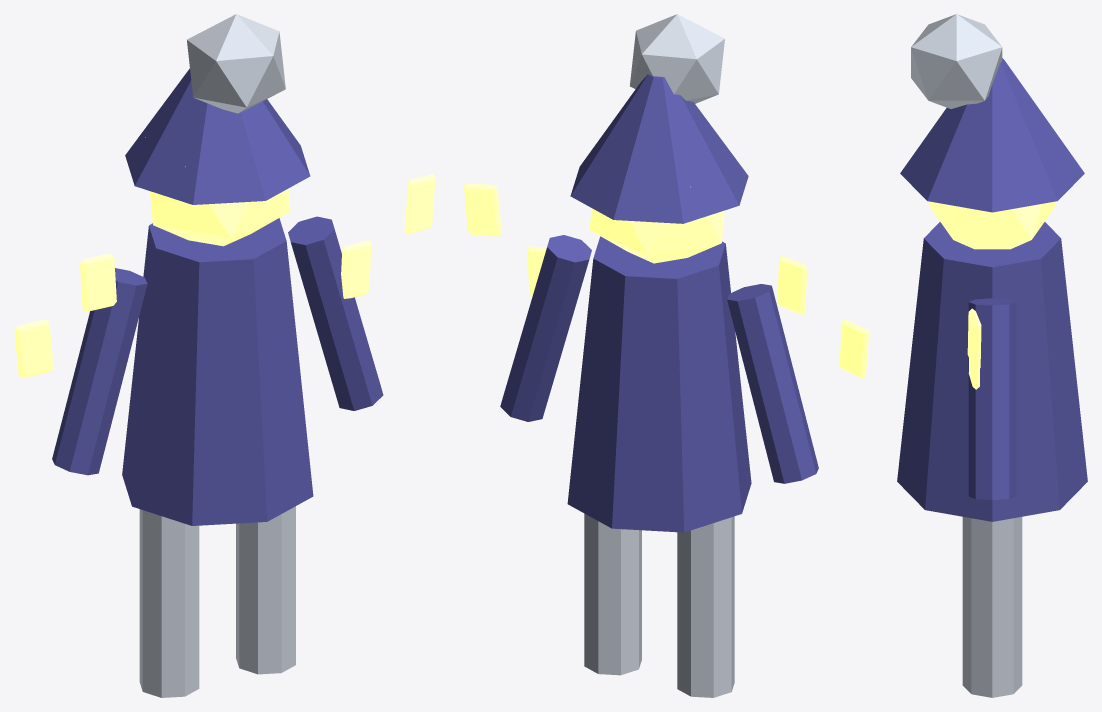
The model's file is hero_star_wagerer.glb.
3 renders of one model, left to right at view 1: azimuth 30°, elevation 25°; view 2: azimuth 150°, elevation 25°; view 3: azimuth 270°, elevation 25°, orthographic. The views are drawn at different scales.
Visible parts, largest first — view 1: hero_star_wagerer; view 2: hero_star_wagerer; view 3: hero_star_wagerer.
Part boxes in pixels (box(x1,y1,x2,y2)): hero_star_wagerer: box(14, 14, 435, 697); hero_star_wagerer: box(464, 14, 868, 697); hero_star_wagerer: box(897, 14, 1087, 697).
Size of the model in its own units: 1.57 by 2.4 by 0.64.
